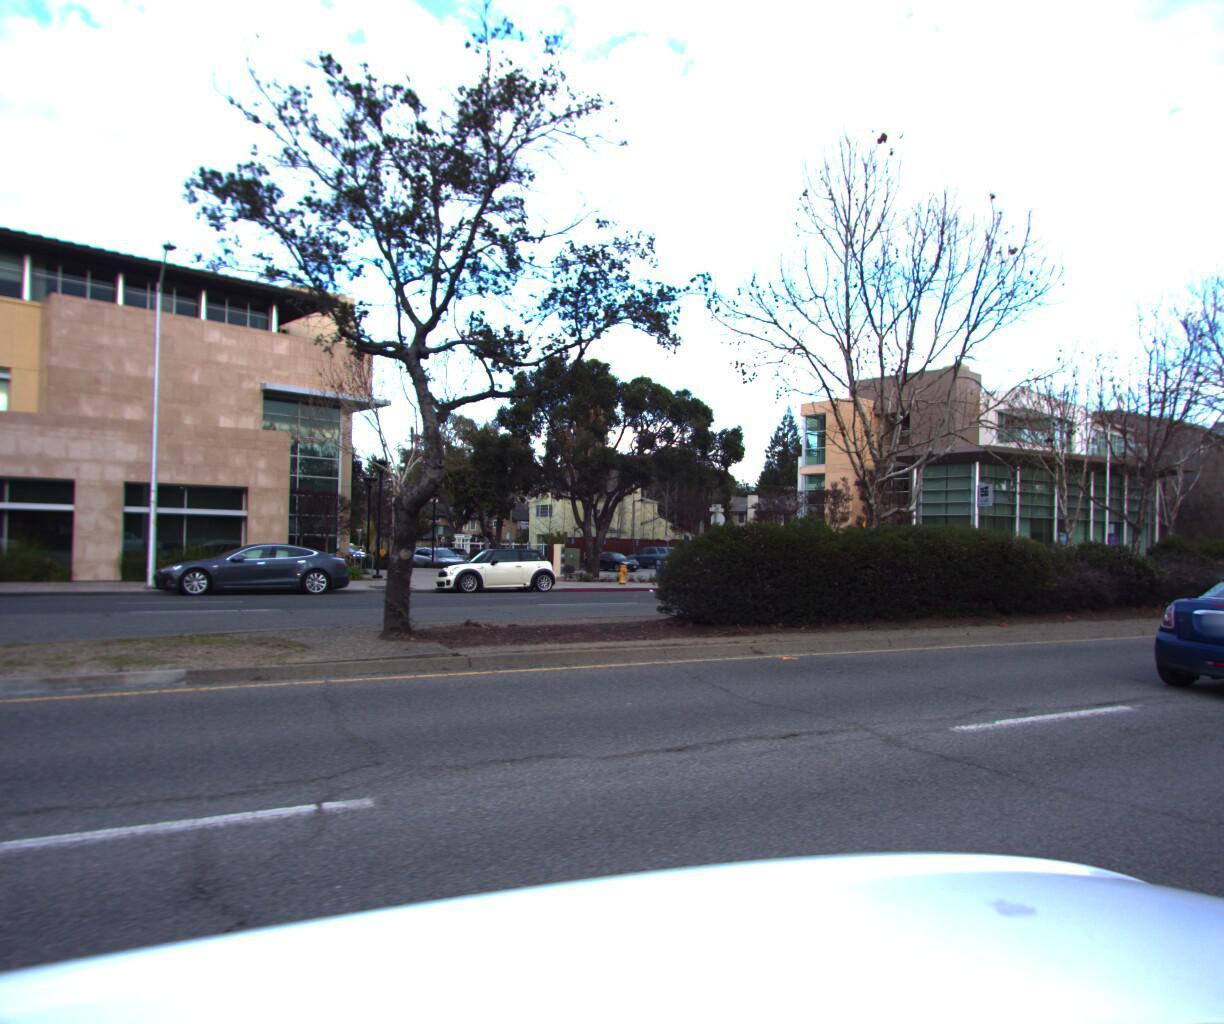car: (1127, 555, 1224, 719), (150, 536, 348, 598), (425, 542, 562, 593)
